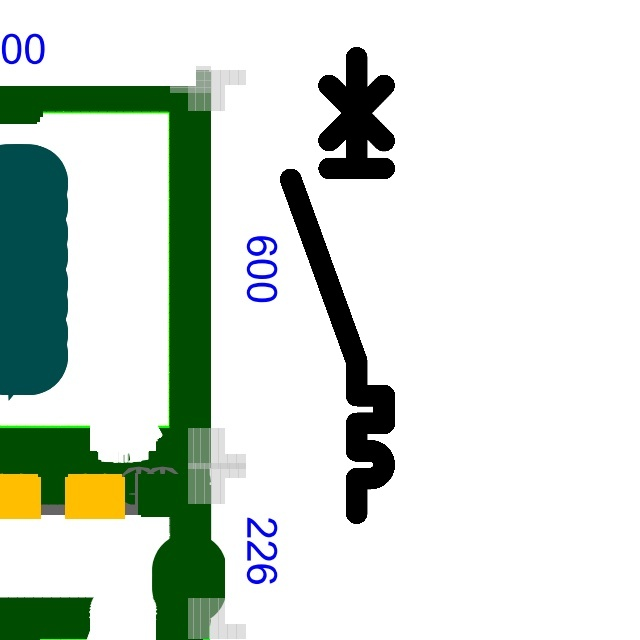interruptor_termomagnetico: (279, 46, 396, 525)
